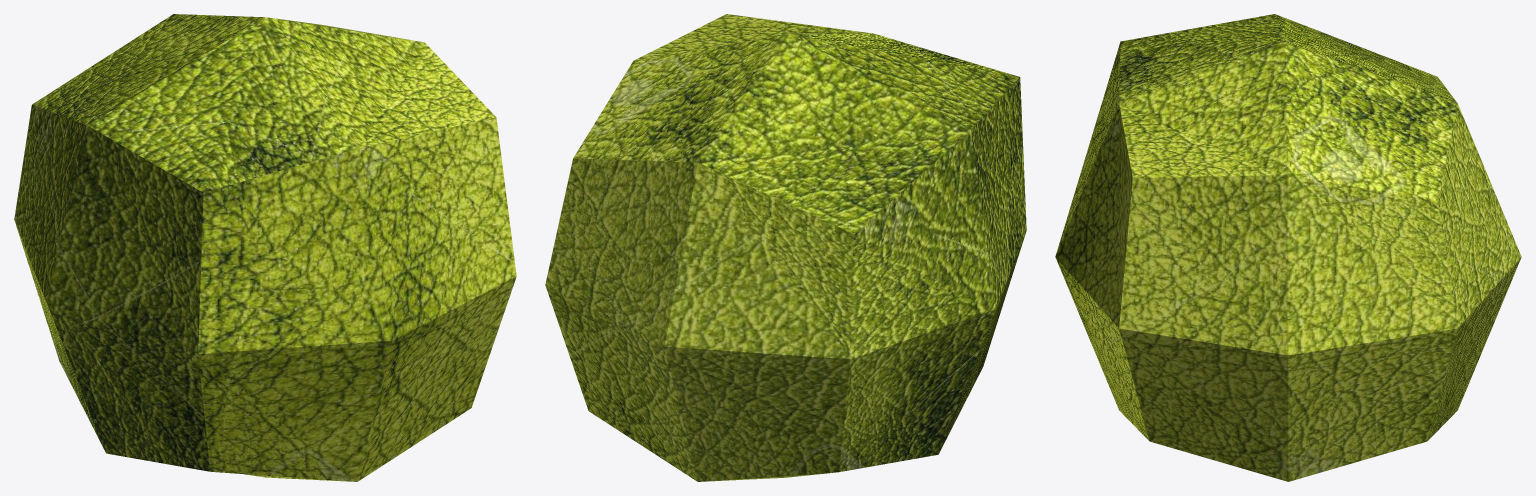
File: acido.fbx
3 renders of one model, left to right at view 1: azimuth 30°, elevation 25°; view 2: azimuth 150°, elevation 25°; view 3: azimuth 270°, elevation 25°, orthographic. The views are drawn at different scales.
Visible parts, largest first — view 1: Cube.001; view 2: Cube.001; view 3: Cube.001.
Boxes of the visible parts, <box> form: Cube.001: <box>14,14,516,481</box>; Cube.001: <box>545,14,1026,481</box>; Cube.001: <box>1055,14,1521,481</box>.
Bounding box in the file's own units: 39.98 × 40.21 × 39.98.
1 material, 1 textured.
